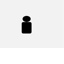human: (18, 13, 34, 34)
